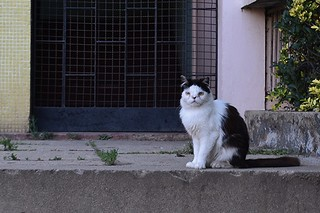cat: (172, 74, 304, 173)
